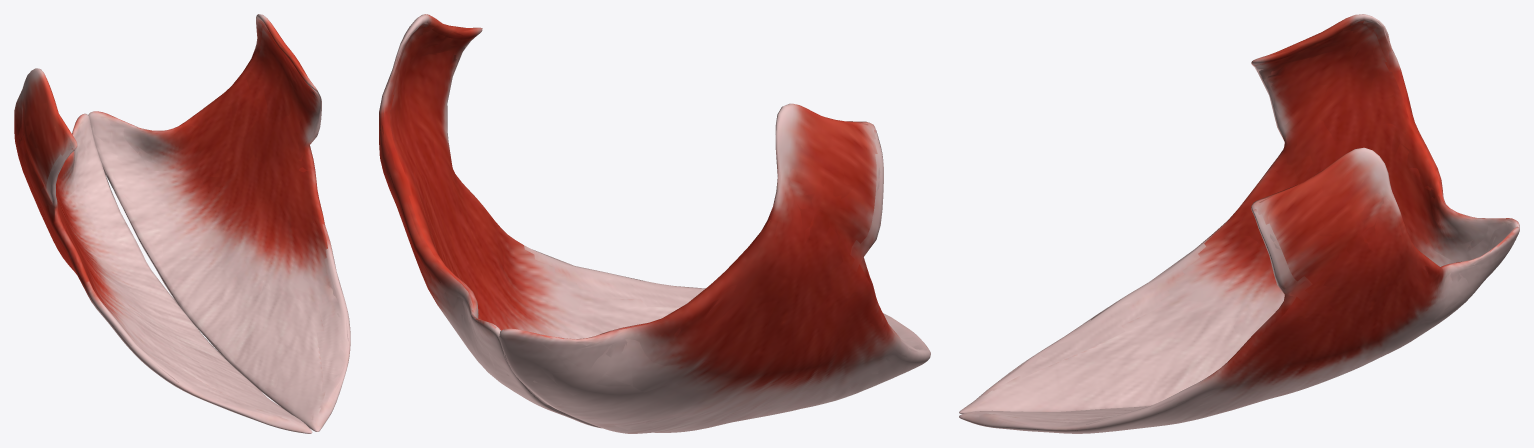
File: obliquus internus abdominis.fbx
3 views of the same model, side by side, from view 1: azimuth 30°, elevation 25°; view 2: azimuth 150°, elevation 25°; view 3: azimuth 270°, elevation 25° (orthographic). The views are drawn at different scales.
Visible parts, largest first — view 1: obliquus internus abdominis low, obliquus internus abdominis; view 2: obliquus internus abdominis, obliquus internus abdominis low; view 3: obliquus internus abdominis, obliquus internus abdominis low.
Part boxes in pixels (x1=…): obliquus internus abdominis low: x1=14, y1=14, x2=349, y2=432; obliquus internus abdominis: x1=14, y1=14, x2=350, y2=433; obliquus internus abdominis: x1=379, y1=14, x2=930, y2=433; obliquus internus abdominis low: x1=379, y1=17, x2=929, y2=432; obliquus internus abdominis: x1=959, y1=14, x2=1519, y2=433; obliquus internus abdominis low: x1=964, y1=14, x2=1519, y2=430.
Size of the model in its own units: 56.31 by 54.52 by 82.5.
